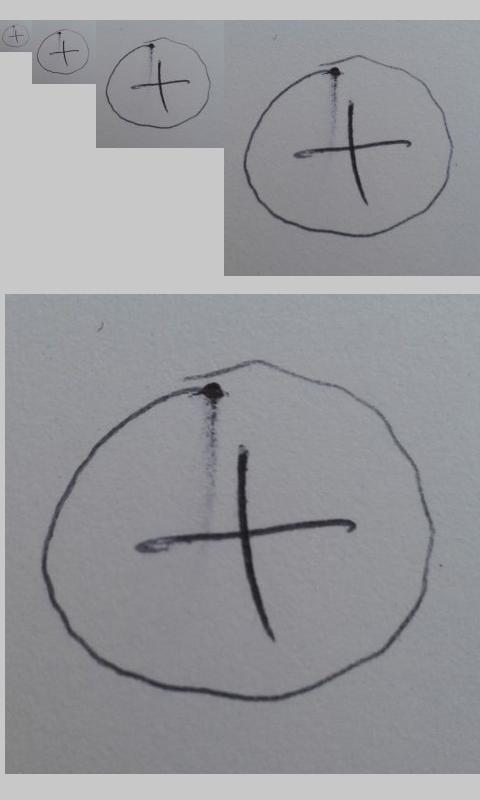button: (40, 357, 440, 706), (242, 54, 455, 239), (105, 37, 212, 129), (36, 28, 90, 75), (1, 23, 30, 48)
